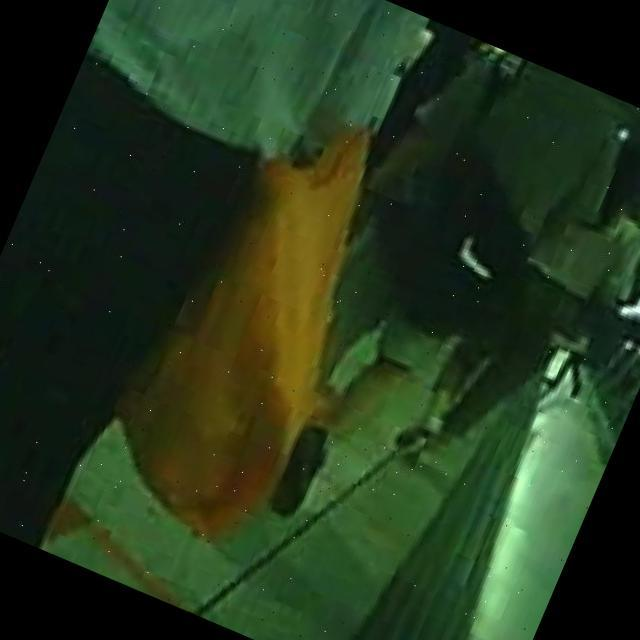person: (0, 0, 431, 608), (249, 27, 640, 582), (385, 109, 640, 505)
